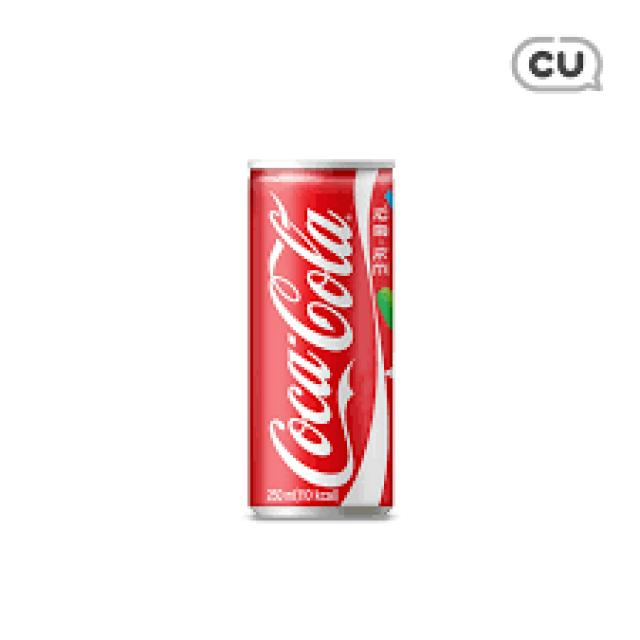Coca-Cola: (233, 145, 404, 524)
